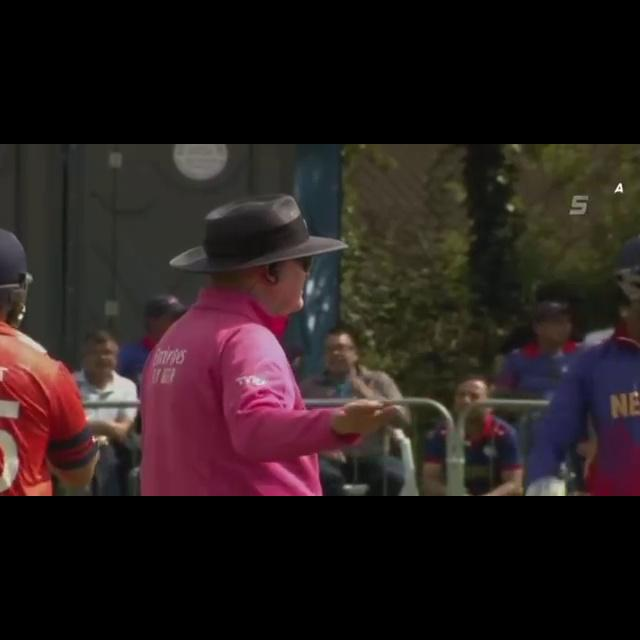umpire: (145, 173, 417, 496)
